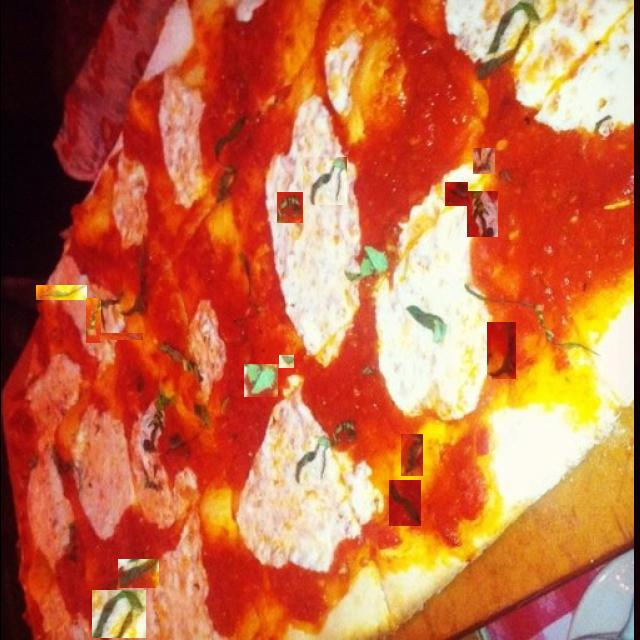basil: (91, 590, 145, 638), (302, 157, 346, 205), (186, 296, 230, 334), (486, 322, 515, 379), (432, 258, 475, 294), (464, 191, 496, 237), (388, 480, 420, 526), (117, 560, 158, 590), (243, 364, 277, 397), (400, 434, 422, 476), (276, 192, 302, 223), (35, 285, 86, 300), (424, 208, 446, 240), (85, 298, 100, 343), (442, 182, 467, 206), (472, 148, 494, 174), (142, 339, 172, 356), (99, 333, 142, 340), (516, 334, 544, 344), (276, 355, 292, 368)
pizza: (0, 0, 633, 640)
